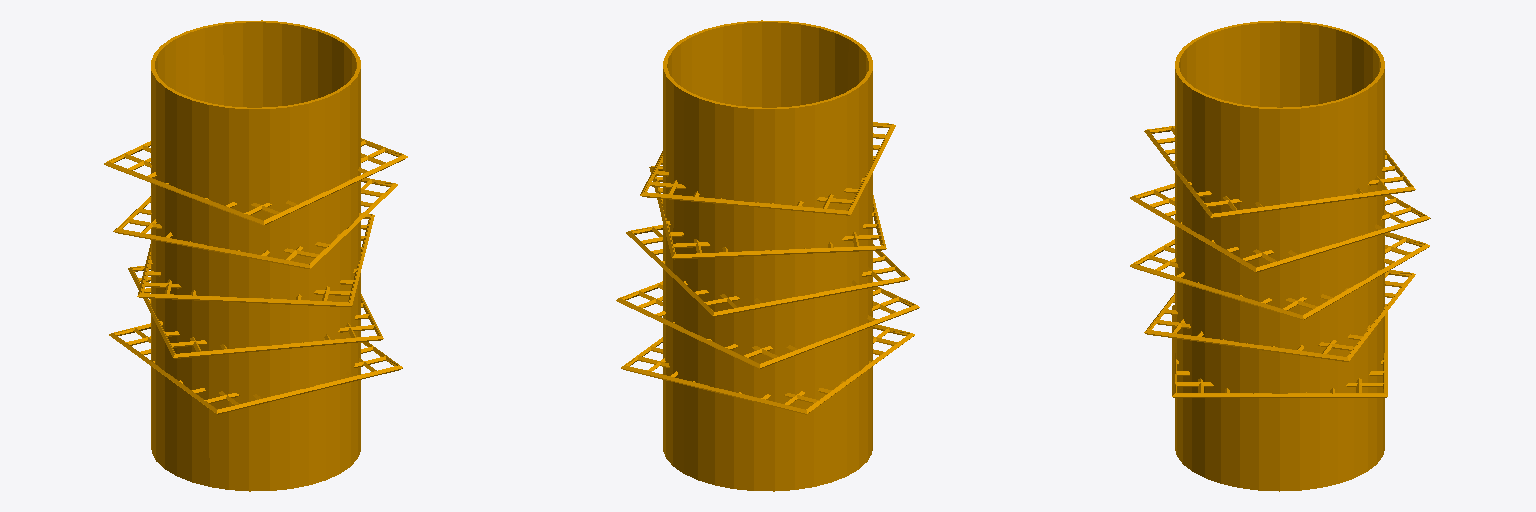
URDF robot description (pipe):
<?xml version="1.0" ?>
<robot name="pipe">
  <link name="root">
    <visual>
      <origin xyz="0 0 0" rpy="1.57 0 1.57" />
      <geometry>
        <mesh filename="pipe.obj" scale="0.5 0.5 0.5"/>
      </geometry>
    </visual>
    <collision>
      <origin xyz="0 0 0" rpy="1.57 0 1.57" />
      <geometry>
        <mesh filename="pipe.obj" scale="0.5 0.5 0.5"/>
      </geometry>
    </collision>
  </link>
</robot>

--- Facts derived from the render (not from the file) ---
Views: 3 orthographic renders of the robot side by side, from view 1: azimuth 30°, elevation 25°; view 2: azimuth 150°, elevation 25°; view 3: azimuth 270°, elevation 25°.
Model pipe with 1 links and 0 joints (none), rooted at root, posed every joint at zero.
Visible links, largest first — view 1: root; view 2: root; view 3: root.
Link boxes in pixels (box(x1,y1,x2,y2)): root: box(104, 20, 407, 491); root: box(616, 20, 919, 491); root: box(1130, 20, 1430, 491).
Size in the robot's own frame: 7.16 by 7.16 by 10 metres.
Meshes: 1 distinct files referenced, 1 mesh visuals loaded (1 OBJ).
